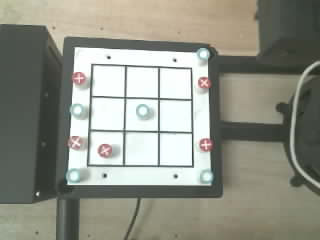blue circle: (136, 104, 151, 119), (66, 169, 81, 183), (200, 169, 214, 184), (70, 104, 84, 118), (197, 48, 209, 60)
board: (67, 47, 212, 185)
cells: (89, 132, 122, 164), (125, 133, 157, 165), (160, 133, 192, 165), (91, 98, 123, 129), (160, 100, 191, 131), (126, 99, 157, 130), (92, 66, 124, 96), (160, 68, 191, 98), (127, 67, 157, 97)
grid: (87, 64, 193, 167)
red cross: (68, 136, 83, 149), (72, 72, 85, 85), (98, 144, 111, 157), (199, 138, 212, 151), (198, 77, 211, 88)
